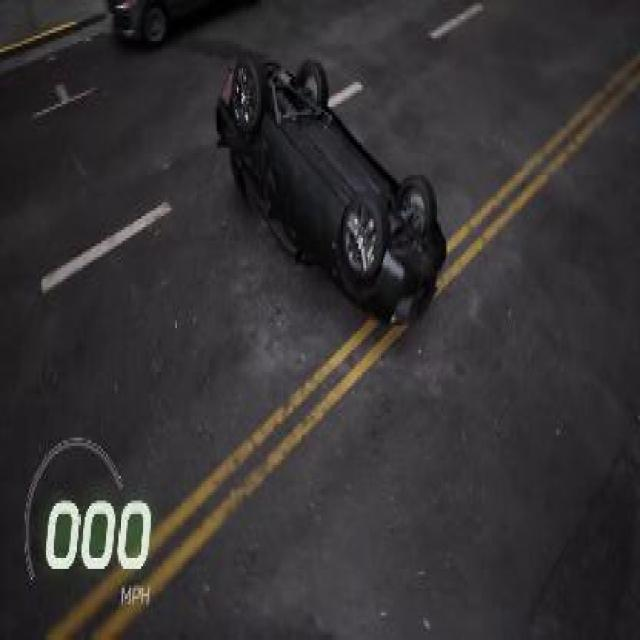accident: (212, 41, 450, 331)
